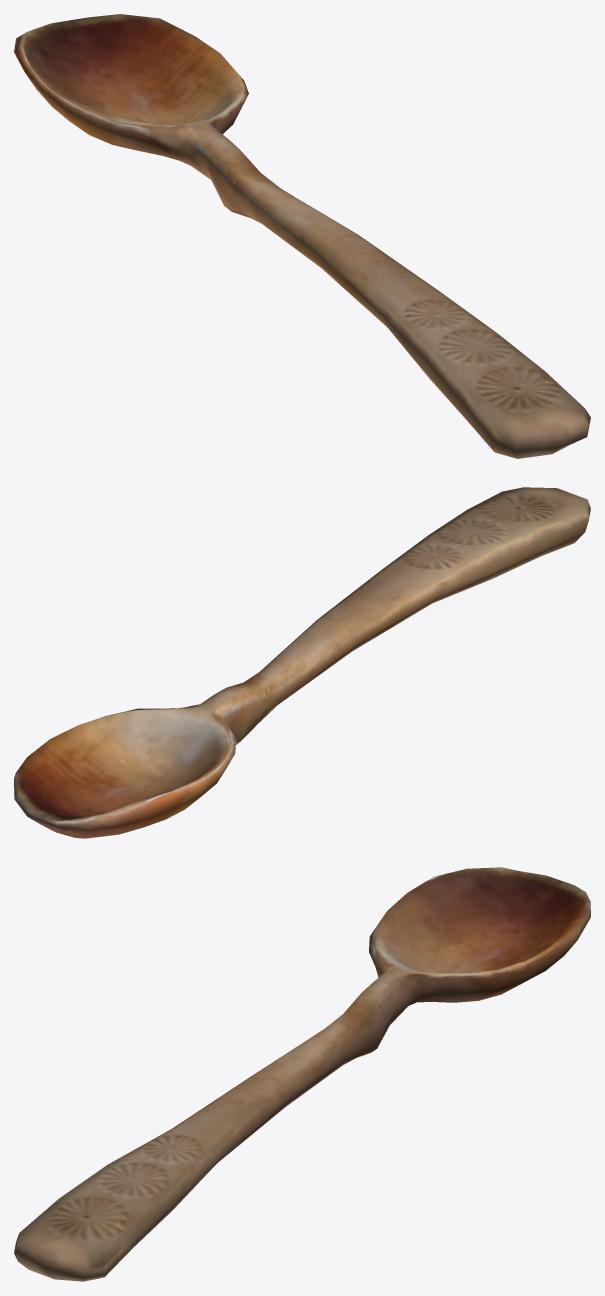
File: Wooden_spoon.obj
3 renders of one model, top to bottom at view 1: azimuth 30°, elevation 25°; view 2: azimuth 150°, elevation 25°; view 3: azimuth 330°, elevation 25°, orthographic. The views are drawn at different scales.
Visible parts, largest first — view 1: Wooden_spoon; view 2: Wooden_spoon; view 3: Wooden_spoon.
Part boxes in pixels (left/top/right/bottom): Wooden_spoon: left=14, top=14, right=590, bottom=458; Wooden_spoon: left=14, top=487, right=590, bottom=838; Wooden_spoon: left=14, top=867, right=590, bottom=1281.
Bounding box in the file's own units: 4.33 × 1.7 × 22.53.
